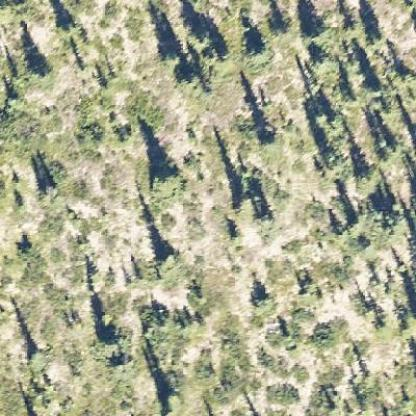tree-top: (201, 40, 240, 70), (94, 326, 130, 358), (144, 164, 180, 194), (313, 102, 344, 135), (306, 21, 338, 51), (354, 159, 382, 193), (182, 25, 214, 51), (244, 38, 274, 64), (27, 58, 56, 84), (57, 12, 81, 38), (35, 179, 58, 204), (25, 344, 48, 369), (257, 127, 279, 152)
